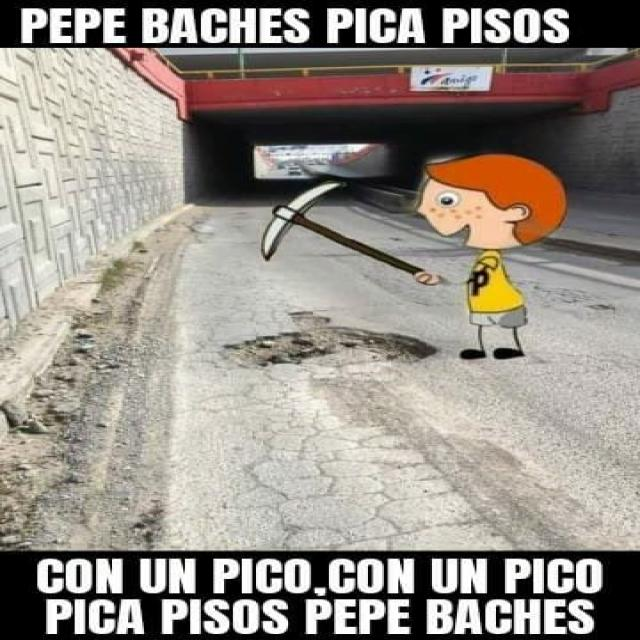Pothole: (199, 308, 457, 412)
